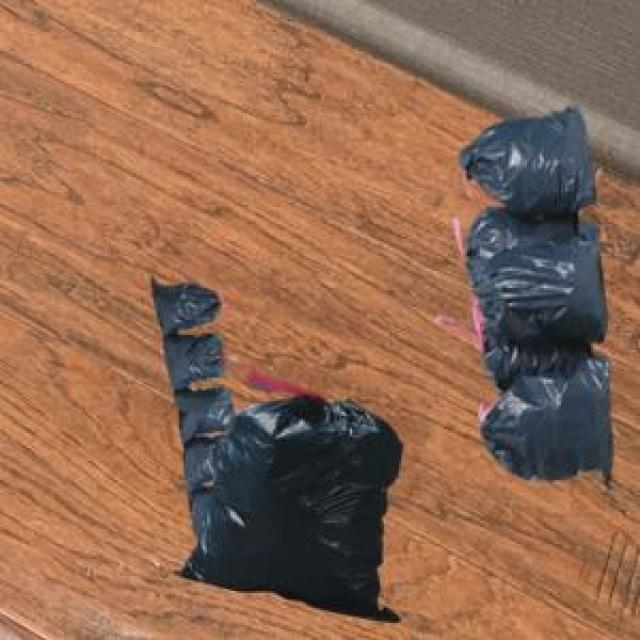Trashbag: (187, 397, 406, 627), (477, 356, 617, 495), (470, 225, 610, 351), (458, 106, 600, 220), (146, 267, 224, 342), (161, 329, 227, 393)
